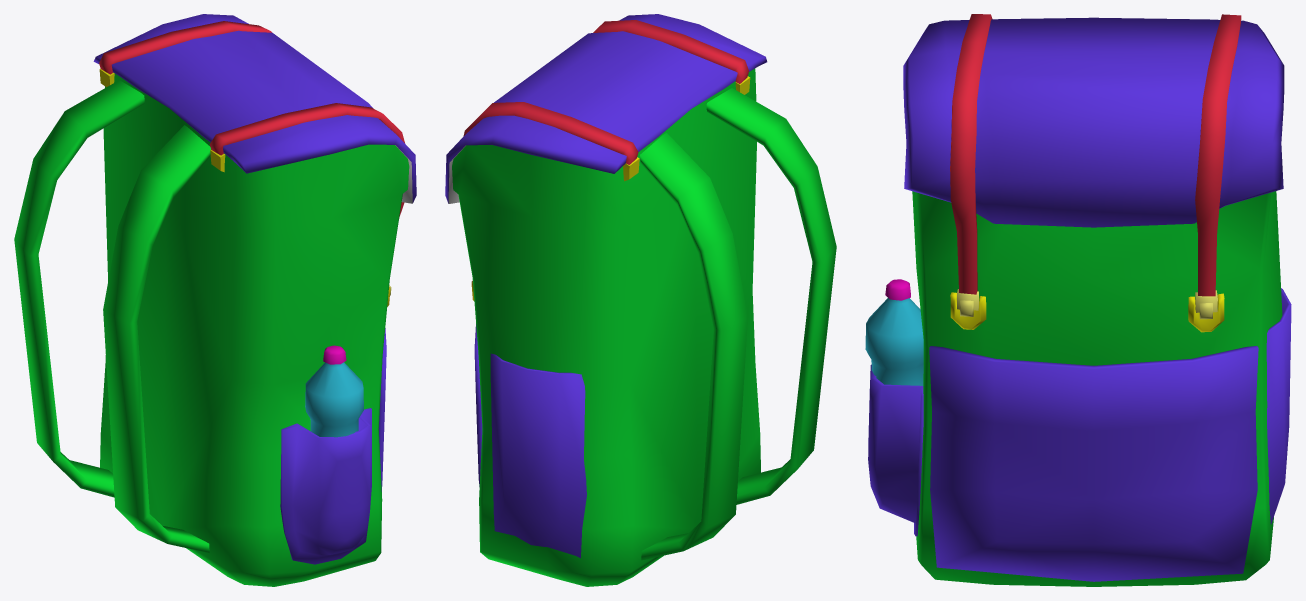
File: Backpack.fbx
The picture shows the model from 3 angles, left to right: view 1: azimuth 30°, elevation 25°; view 2: azimuth 150°, elevation 25°; view 3: azimuth 270°, elevation 25°; orthographic projection. The views are drawn at different scales.
Parts seen in each view (by area): view 1: backpack.003; view 2: backpack.003; view 3: backpack.003.
Boxes of the visible parts, x1,y1,x2,y2 form: backpack.003: [14, 14, 416, 586]; backpack.003: [445, 14, 836, 586]; backpack.003: [865, 14, 1291, 586].
Bounding box in the file's own units: 264 × 410 × 308.
